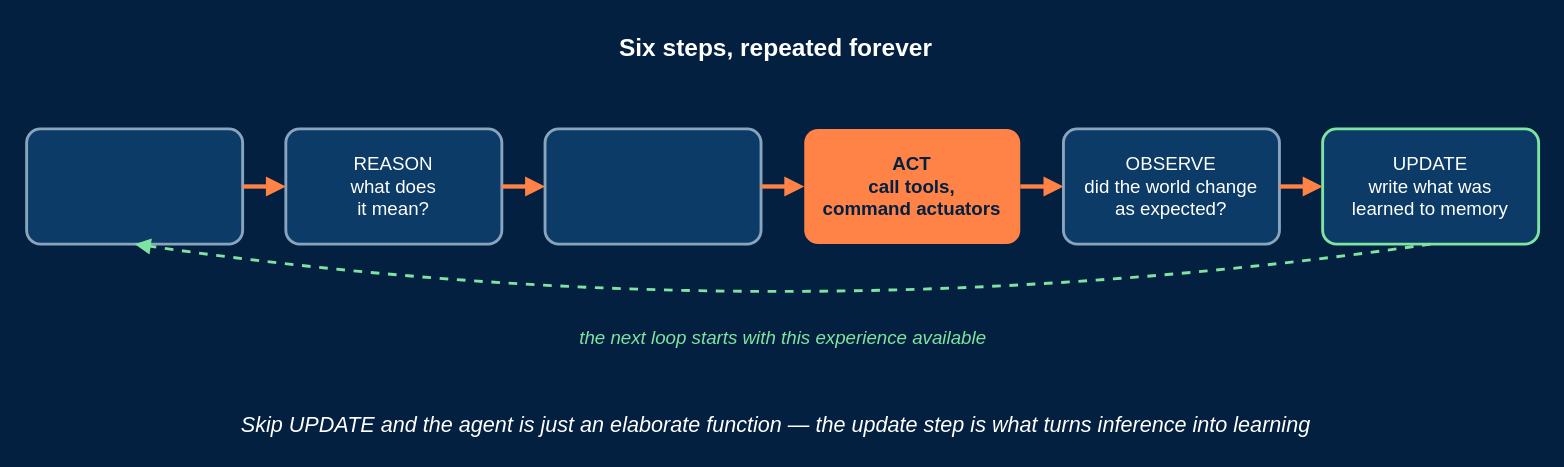
Image size: 1564x467. Some labels were removed from this diagram. Here are the shapes that lost their labels. From the top down, the box of each, then its label:
(24, 127, 243, 245): PERCEIVE gather fresh information
(543, 127, 762, 245): PLAN choose a sequence of actions
